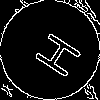H: (25, 25, 83, 80)
